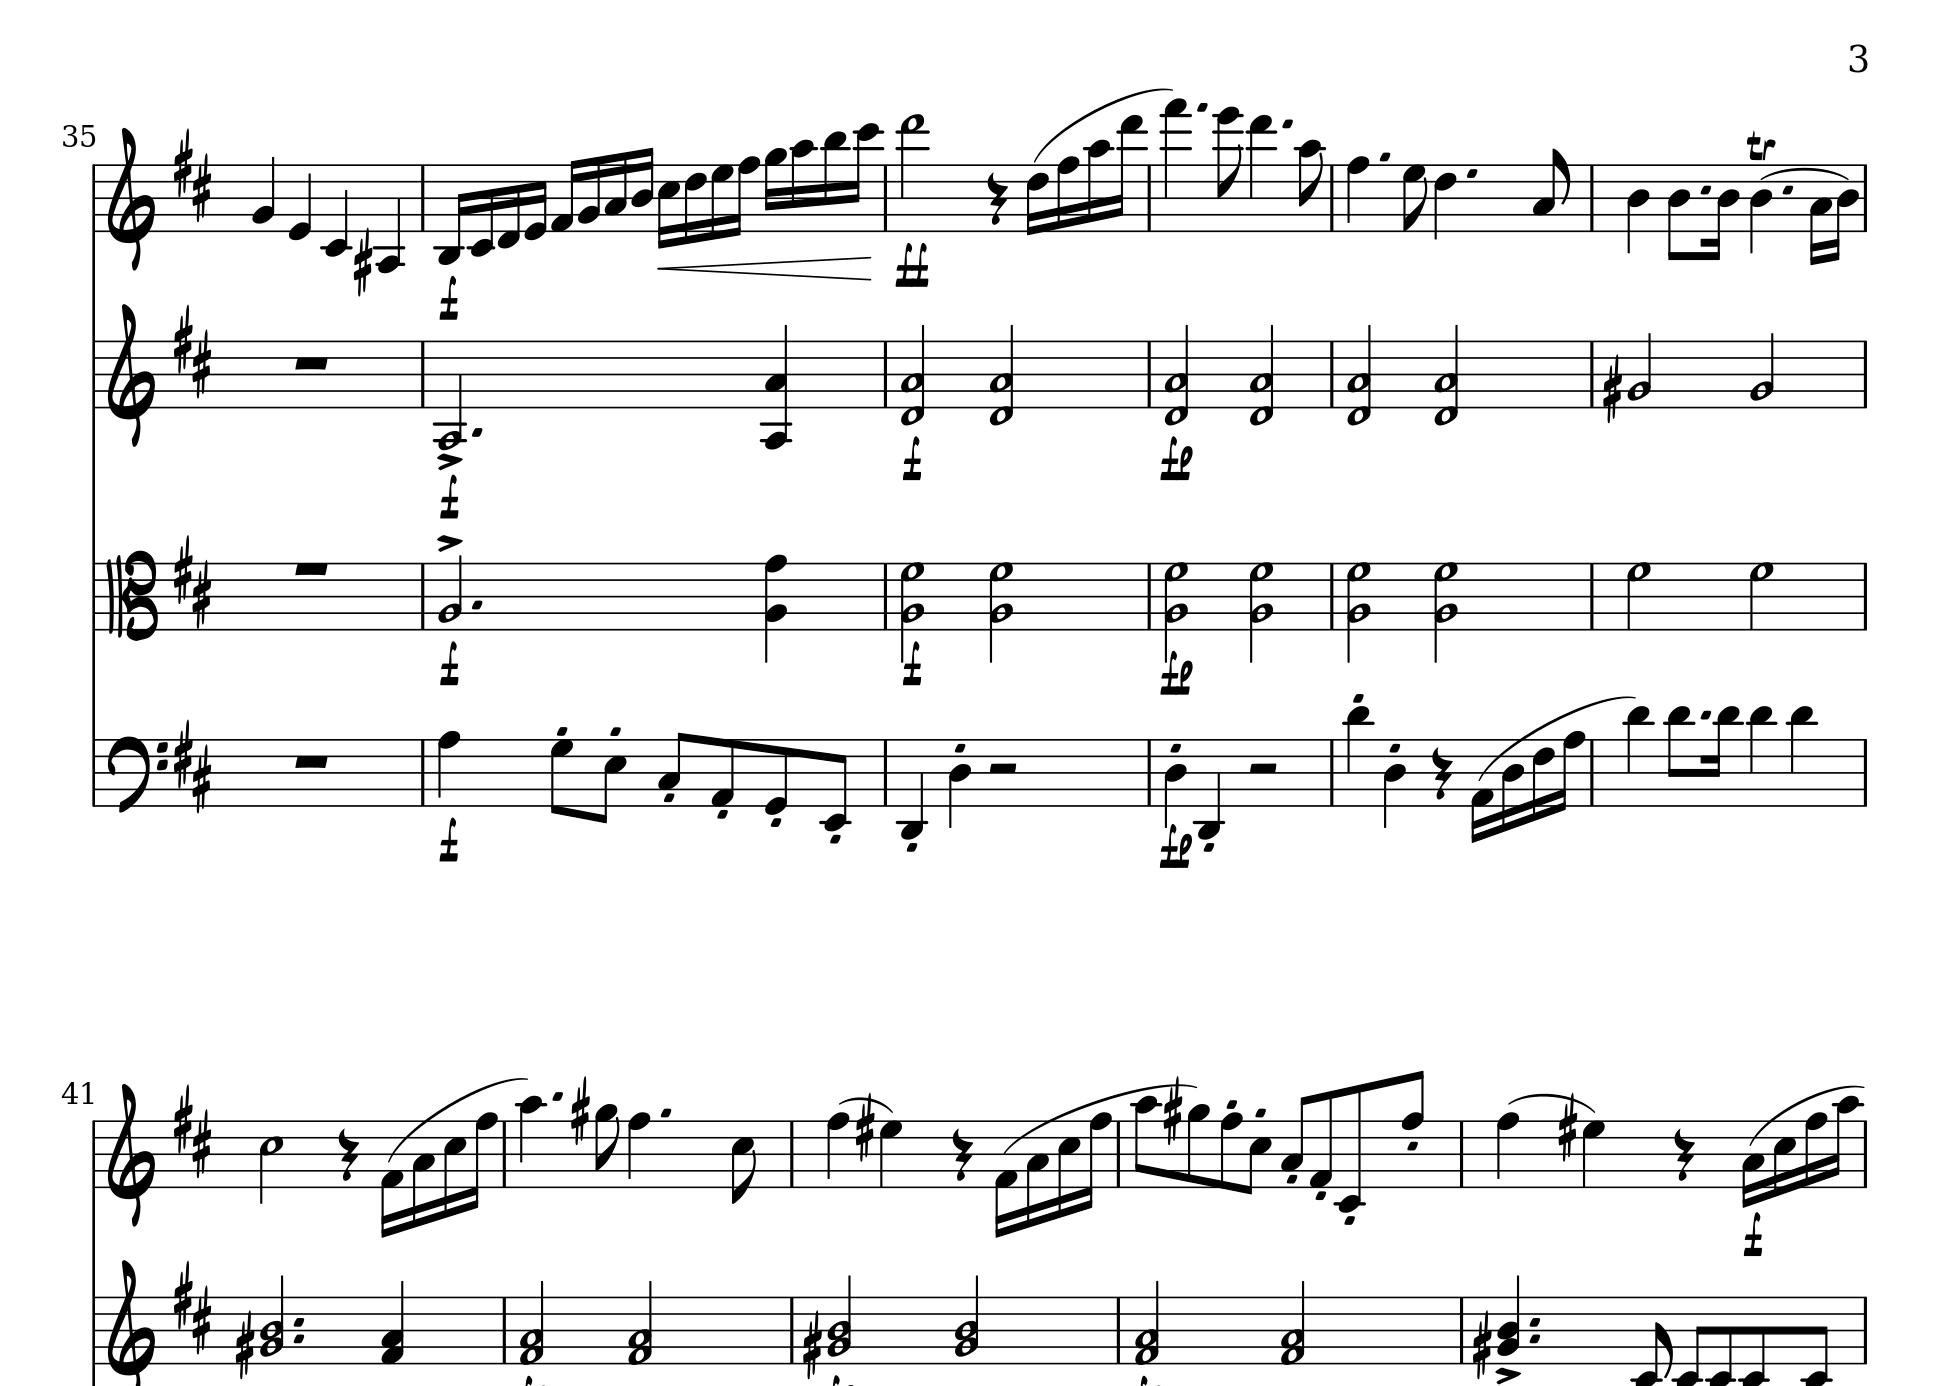1: (81, 1078, 94, 1107)
16_-1: (496, 162, 520, 250)
16_-2: (468, 162, 493, 259)
16_-3: (433, 162, 468, 267)
16_0: (522, 162, 547, 241)
16_1: (993, 1119, 1018, 1237), (379, 1117, 403, 1239), (1470, 736, 1494, 844), (549, 157, 580, 232)
16_10: (1830, 1093, 1863, 1189), (1086, 136, 1113, 234), (789, 138, 814, 234)
16_11: (1704, 703, 1743, 808), (820, 129, 847, 234)
16_12: (847, 121, 880, 232)
16_13: (1113, 112, 1144, 232)
16_2: (577, 154, 601, 232)
16_3: (409, 1119, 435, 1228), (1024, 1119, 1050, 1228), (1807, 160, 1833, 265), (1740, 1119, 1764, 1207), (603, 151, 628, 232)
16_4: (1702, 162, 1740, 262), (1831, 160, 1860, 262), (1500, 738, 1525, 832), (630, 145, 654, 232)
16_5: (1056, 1119, 1081, 1218), (442, 1117, 466, 1218), (655, 162, 681, 247), (1771, 1117, 1797, 1195)
16_6: (682, 160, 708, 244), (1530, 736, 1555, 820), (1026, 163, 1050, 237)
16_7: (709, 160, 733, 241)
16_8: (465, 1110, 499, 1212), (1081, 1111, 1113, 1210), (1555, 729, 1587, 814), (730, 154, 759, 237), (1056, 154, 1080, 235), (1803, 1111, 1827, 1189)
16_9: (762, 145, 787, 234)
2_-1_3: (898, 325, 927, 427), (988, 324, 1017, 426), (1162, 322, 1191, 424), (1249, 322, 1278, 424), (1345, 322, 1374, 424), (1434, 322, 1462, 424)
2_-4: (435, 339, 465, 450)
2_1_3: (519, 1282, 547, 1366), (625, 1279, 654, 1363), (1134, 1279, 1162, 1363), (1279, 1281, 1308, 1365)
2_2: (1749, 330, 1777, 409), (436, 552, 463, 631), (1626, 331, 1653, 408)
2_2_4: (951, 1273, 982, 1363), (256, 1275, 286, 1366), (826, 1276, 856, 1366)
2_2_7: (1434, 559, 1461, 664), (1347, 559, 1374, 664), (1248, 558, 1275, 663), (1162, 556, 1189, 661), (990, 558, 1017, 663), (898, 556, 925, 661)
2_5: (258, 1117, 285, 1204)
2_7: (1749, 559, 1776, 631), (1626, 561, 1651, 631)
3: (1848, 40, 1869, 73), (60, 120, 79, 148)
4: (60, 1078, 79, 1107)
4_-2: (321, 162, 351, 256)
4_-3: (898, 735, 925, 841), (1197, 736, 1224, 841)
4_-4: (375, 160, 405, 271)
4_-4_3: (757, 325, 793, 450)
4_0: (286, 162, 313, 243)
4_10: (516, 1093, 544, 1189)
4_11: (1623, 703, 1653, 808), (1788, 703, 1818, 808), (1747, 703, 1776, 808), (1344, 705, 1372, 808)
4_13: (897, 114, 928, 232), (1248, 112, 1278, 235)
4_15: (1161, 97, 1191, 232)
4_1_3: (379, 1281, 406, 1368)
4_2: (250, 154, 276, 232)
4_2_4: (1497, 1276, 1524, 1363)
4_2_8: (762, 552, 790, 663)
4_4: (1624, 162, 1650, 255), (946, 736, 972, 829), (1749, 163, 1773, 256), (1164, 738, 1188, 829), (1383, 739, 1407, 829)
4_6: (1432, 160, 1458, 240)
4_7: (877, 1117, 903, 1189), (1581, 1117, 1606, 1189)
4_8: (1494, 1110, 1521, 1191), (1344, 154, 1371, 234), (436, 727, 460, 808), (625, 1110, 649, 1191), (825, 1110, 849, 1191)
5: (79, 118, 96, 148)
8_-2: (1335, 1081, 1365, 1213), (1632, 1294, 1674, 1384), (819, 736, 850, 832), (1674, 1294, 1707, 1384), (1801, 1294, 1830, 1386), (1740, 1294, 1767, 1386), (1708, 1294, 1734, 1386)
8_0: (760, 736, 790, 816)
8_1: (1309, 1089, 1335, 1191), (708, 736, 736, 808)
8_10: (1296, 138, 1326, 234), (1131, 1093, 1158, 1189)
8_11: (1665, 703, 1695, 808)
8_14: (1215, 106, 1243, 232)
8_3: (1531, 145, 1570, 232), (1279, 1093, 1311, 1189), (655, 730, 690, 807)
8_4: (1666, 160, 1692, 262)
8_5: (595, 736, 628, 825), (729, 1117, 757, 1206), (1245, 1117, 1272, 1195)
8_7: (549, 736, 574, 817), (1401, 162, 1428, 232)
8_8: (1399, 1066, 1426, 1191), (1218, 1110, 1243, 1192)
8_9: (592, 1102, 619, 1189), (1185, 1102, 1210, 1189)
Accent_above: (435, 529, 463, 550)
Cclef: (103, 547, 159, 640)
Crescendo_hairpin: (661, 255, 871, 283)
D_S: (171, 715, 214, 810), (171, 532, 213, 628), (172, 1258, 213, 1354), (172, 1081, 211, 1177), (172, 126, 211, 220), (172, 303, 211, 396)
Fclef: (106, 733, 168, 814)
Gclef: (105, 124, 156, 271), (105, 301, 156, 447), (105, 1081, 156, 1227), (105, 1258, 156, 1386)
Rests1: (289, 352, 331, 372), (289, 559, 331, 577), (289, 751, 331, 769)
Rests2: (985, 759, 1021, 778), (1245, 759, 1281, 777)
Rests4: (1429, 744, 1453, 802), (336, 1126, 360, 1183), (949, 1126, 973, 1182), (985, 169, 1008, 228), (1672, 1126, 1695, 1182)
Sharp: (1470, 1308, 1494, 1378), (1600, 352, 1623, 424), (568, 1074, 591, 1146), (234, 1308, 256, 1378), (801, 1309, 823, 1378), (1161, 1080, 1183, 1146), (1555, 1098, 1578, 1162), (352, 228, 373, 295), (853, 1096, 874, 1162)
Single_barline: (1857, 340, 1875, 406), (1584, 562, 1602, 628), (1323, 562, 1341, 628), (1857, 738, 1873, 805), (496, 1119, 513, 1186), (1584, 163, 1600, 229), (1584, 340, 1600, 406), (1857, 562, 1873, 628), (877, 562, 894, 628), (1141, 562, 1158, 628), (1584, 739, 1600, 805), (1141, 340, 1158, 405), (1453, 1120, 1470, 1185), (1110, 1297, 1126, 1362), (1141, 163, 1156, 232), (1858, 163, 1873, 232), (1326, 163, 1341, 231), (85, 340, 100, 408), (85, 1120, 100, 1188), (85, 1296, 100, 1363), (1455, 1296, 1470, 1363), (415, 165, 430, 231), (415, 340, 430, 406), (877, 340, 892, 406), (1324, 340, 1339, 406), (85, 562, 100, 628), (85, 739, 100, 805), (877, 739, 892, 805), (1143, 739, 1158, 805), (784, 1120, 799, 1186), (1111, 1120, 1126, 1186), (784, 1296, 799, 1362), (1858, 1296, 1873, 1362), (415, 562, 430, 627), (1324, 739, 1339, 804), (496, 1296, 511, 1360), (415, 739, 430, 802), (87, 163, 100, 232), (1858, 1120, 1872, 1188), (879, 163, 892, 229)
Slur: (1509, 1092, 1596, 1113), (1761, 166, 1851, 181), (837, 1093, 895, 1113)
Staccatissimo: (1140, 1372, 1152, 1386)
Trill: (1744, 127, 1777, 160)
dot: (469, 421, 486, 439), (1279, 115, 1296, 130), (1464, 165, 1479, 181), (1698, 181, 1714, 196), (1698, 706, 1713, 723), (657, 1104, 673, 1119), (291, 1330, 307, 1345), (1527, 1330, 1543, 1345), (289, 1314, 307, 1327), (550, 1087, 565, 1102), (1194, 100, 1210, 114), (1527, 1314, 1542, 1327), (469, 598, 484, 610)
f: (435, 816, 460, 864), (436, 274, 460, 322), (436, 472, 460, 520), (436, 639, 460, 687), (900, 435, 922, 483), (1743, 1210, 1764, 1258), (901, 640, 922, 687)
ff: (895, 238, 931, 288), (1159, 823, 1194, 871)
fp: (1161, 435, 1194, 483), (1161, 649, 1194, 696)
